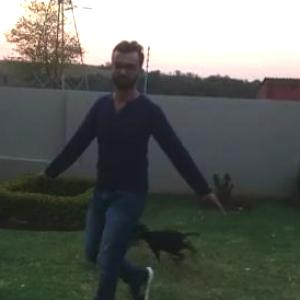land: (39, 60, 217, 296)
